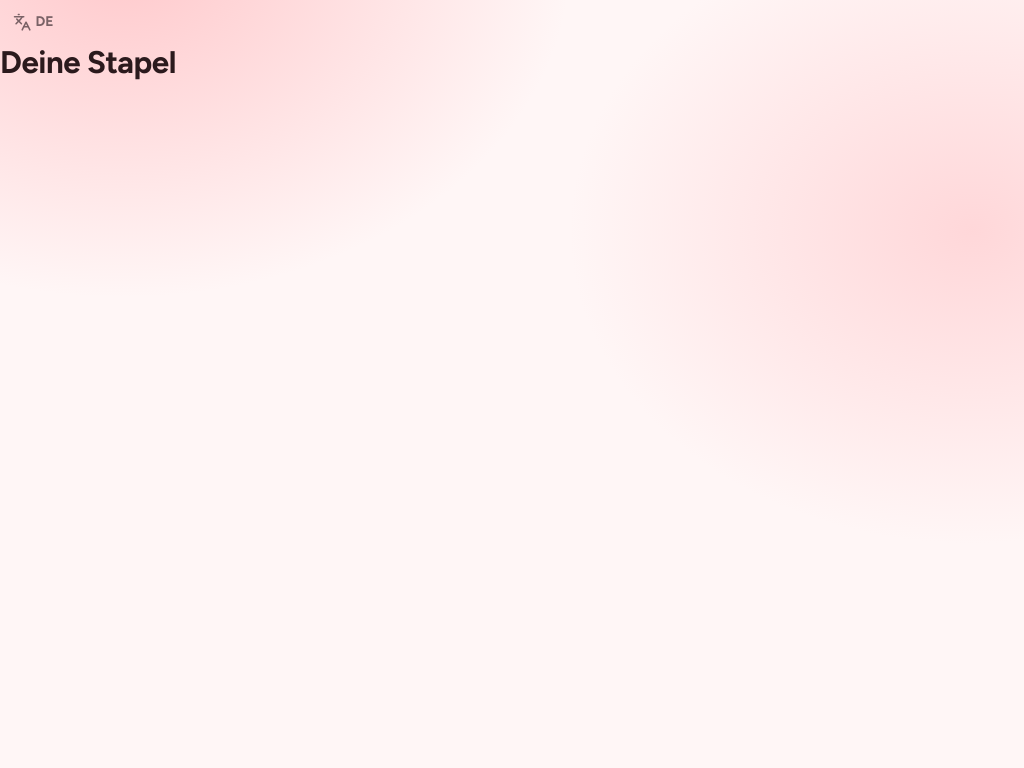
LanguageSwitch › switches all texts at once, sets <html lang> and remembers the choice
The image size is (1024, 768).
Note: the button names the current language
Click the button with aria-label "Sprache: Deutsch" at [33, 22], box 0,0 -> 66,44
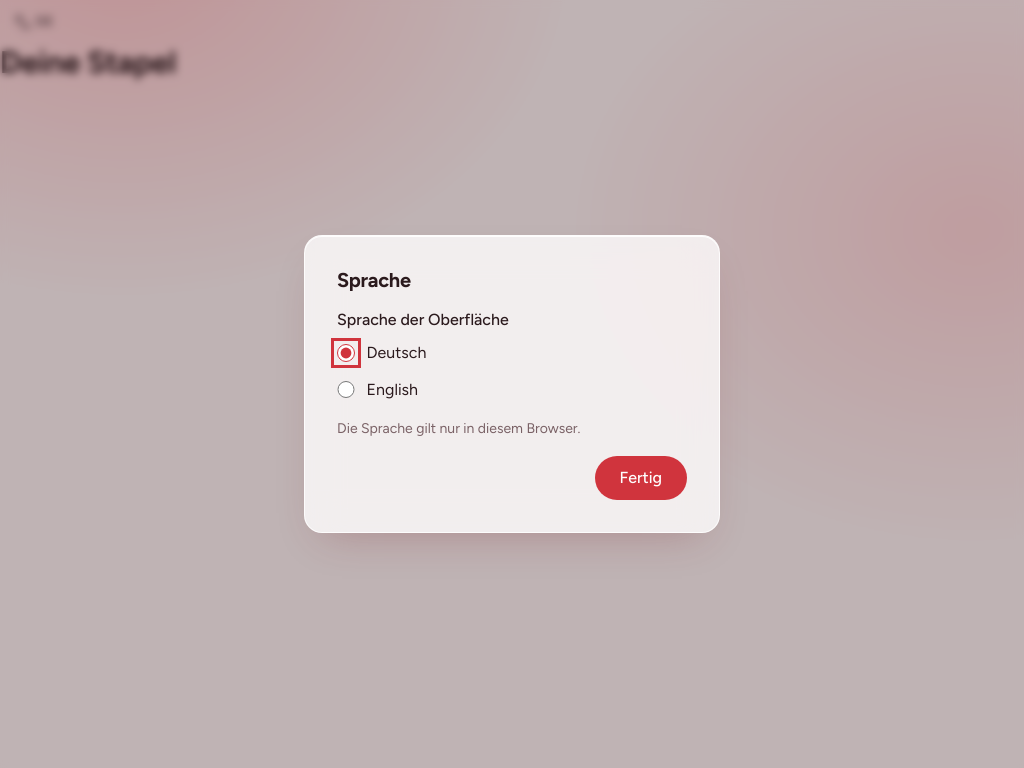
Check: the heading "Deine Stapel" is shown, box 0,43 -> 176,81
Check: the radio button labelled "Deutsch" is checked, box 337,344 -> 355,362
Click the radio button labelled "English" at [346, 390], box 337,381 -> 355,398
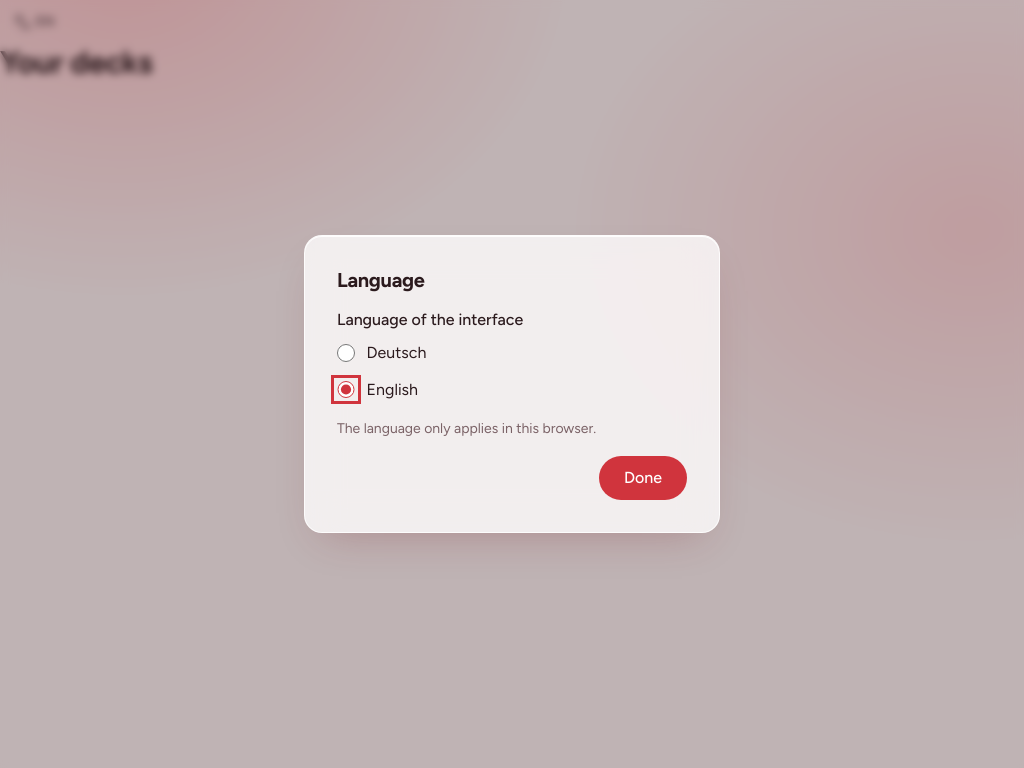
Check: the button with aria-label "Language: English" is shown, box 0,0 -> 68,44
Check: the radio button labelled "English" is checked, box 337,381 -> 355,398
Check: the heading "Your decks" is shown, box 0,43 -> 152,81
